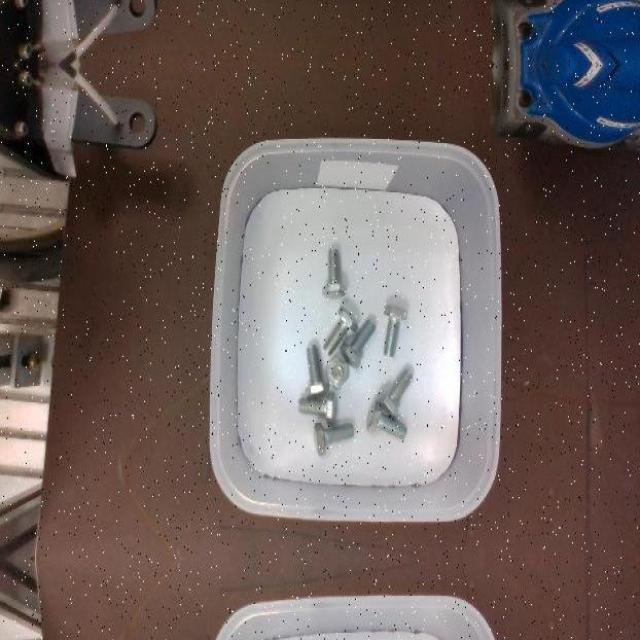screw: (322, 304, 357, 356), (341, 318, 376, 369), (378, 369, 413, 419), (366, 399, 406, 439), (304, 344, 328, 398), (298, 391, 336, 425), (315, 423, 354, 456), (321, 248, 346, 299), (383, 304, 407, 357), (325, 356, 350, 389)
